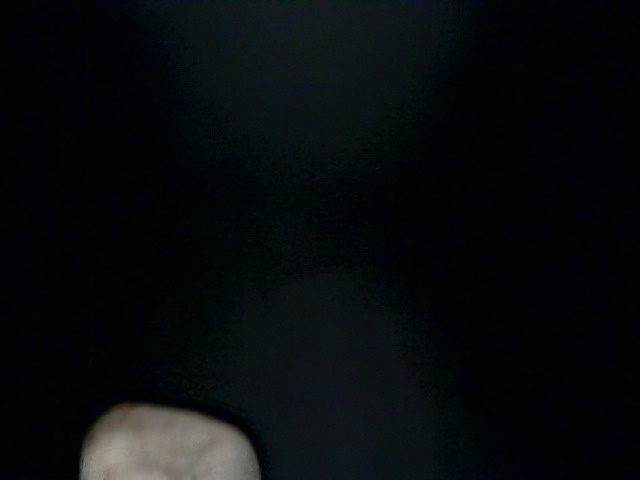QTLJ: (367, 216, 611, 424)
